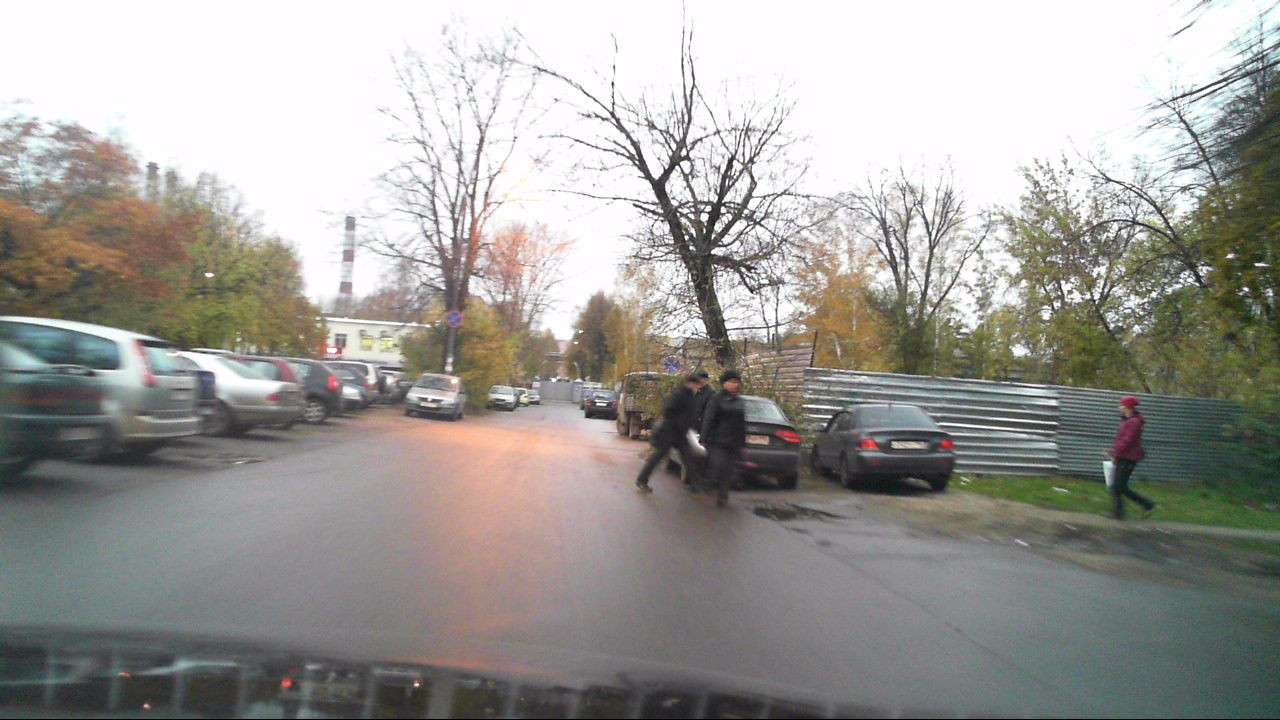No Parking: (443, 308, 463, 329)
